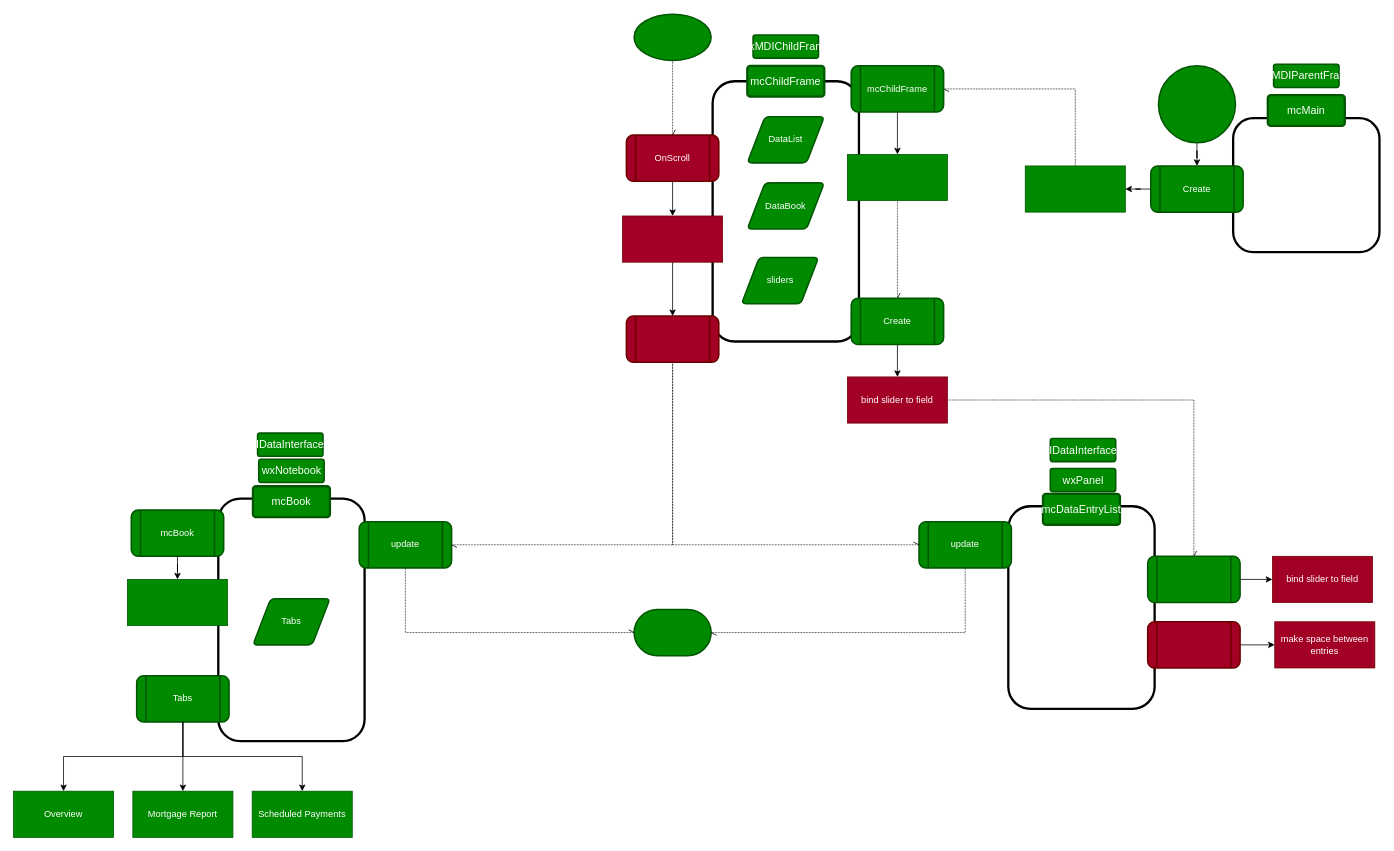
Image size: 1394x851. Some labels were removed from this diagram. The centre of each missing label's shape, as x and y in pixels:
"bindFields" goes at (1193,579).
"create tabs" goes at (177,602).
"end" goes at (672,632).
"format" goes at (1193,644).
"init child frames" goes at (1074,188).
"init members set window size" goes at (897,177).
"onFieldChanged" goes at (672,339).
"Start" goes at (1196,104).
"update corresponding value" goes at (672,238).
"wxScrollEvent" goes at (672,37).
